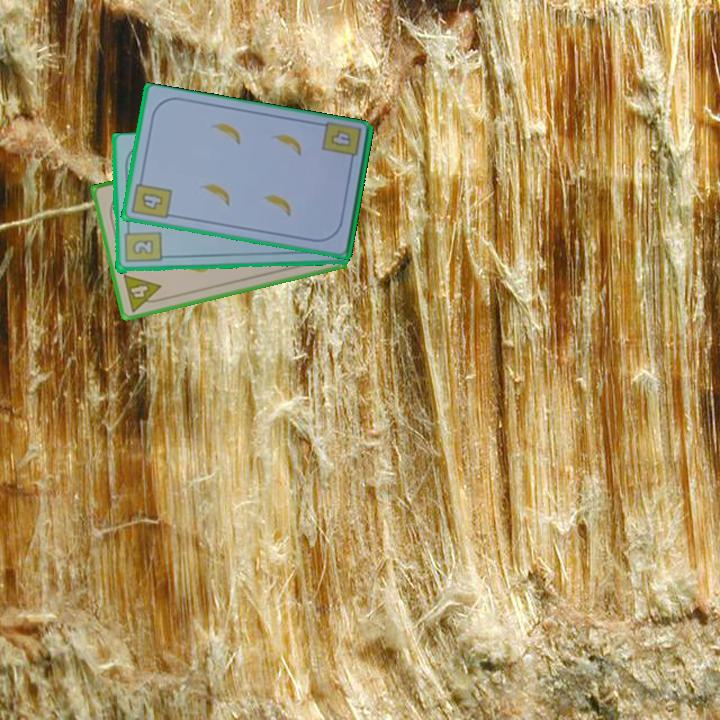2b: (121, 223, 164, 265)
4b: (128, 174, 175, 222), (327, 127, 354, 150)
4p: (119, 271, 167, 315)
